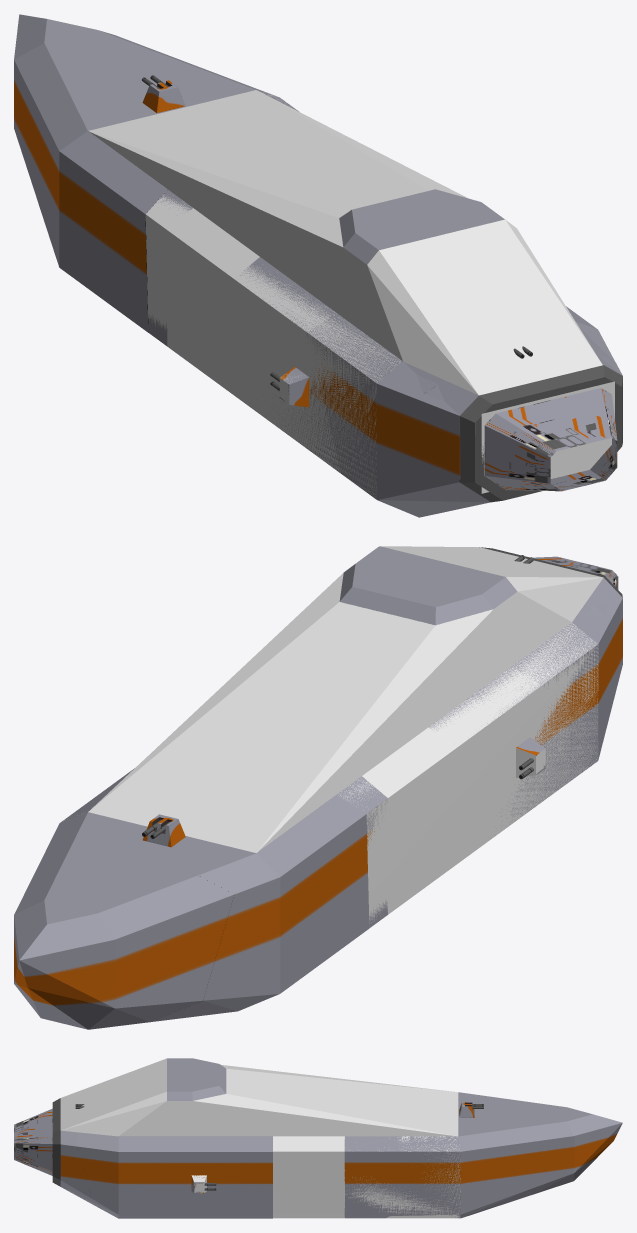
The picture shows the model from 3 angles, top to bottom: view 1: azimuth 30°, elevation 25°; view 2: azimuth 150°, elevation 25°; view 3: azimuth 270°, elevation 25°; orthographic projection. The views are drawn at different scales.
Visible parts, largest first — view 1: Fuselage Extents, Fuselage, Debris Mesh.005, Debris Mesh.001, Exhaust, Debris Mesh.004, Turret Base, Debris Mesh.000, Turret Base.002, Debris Mesh.002; view 2: Fuselage Extents, Debris Mesh.001, Debris Mesh.005, Fuselage, Debris Mesh.004, Turret Base, Exhaust; view 3: Fuselage Extents, Debris Mesh.000, Fuselage, Debris Mesh.001, Debris Mesh.003, Debris Mesh.004, Debris Mesh.005, Exhaust, Debris Mesh.002.
Boxes of the visible parts, x1,y1,x2,y2 form: Fuselage Extents: (88, 90, 611, 498); Fuselage: (46, 20, 621, 517); Debris Mesh.005: (38, 55, 254, 332); Debris Mesh.001: (14, 14, 162, 201); Exhaust: (484, 388, 617, 491); Debris Mesh.004: (339, 189, 504, 264); Turret Base: (142, 80, 185, 112); Debris Mesh.000: (417, 306, 615, 393); Turret Base.002: (279, 367, 309, 407); Debris Mesh.002: (425, 353, 622, 451); Fuselage Extents: (61, 546, 603, 923); Debris Mesh.001: (14, 863, 234, 1029); Debris Mesh.005: (63, 795, 369, 1021); Fuselage: (14, 546, 622, 928); Debris Mesh.004: (339, 546, 510, 625); Turret Base: (142, 814, 185, 847); Exhaust: (533, 556, 618, 589); Fuselage Extents: (60, 1058, 460, 1218); Debris Mesh.000: (76, 1132, 272, 1218); Fuselage: (52, 1058, 573, 1218); Debris Mesh.001: (498, 1097, 622, 1194); Debris Mesh.003: (345, 1136, 398, 1218); Debris Mesh.004: (167, 1058, 226, 1100); Debris Mesh.005: (458, 1092, 532, 1218); Exhaust: (14, 1108, 52, 1175); Debris Mesh.002: (52, 1130, 100, 1208).
Size of what is drawn, in the model's own units: 4.72 by 18.05 by 4.47.
4 materials, 4 textured.
